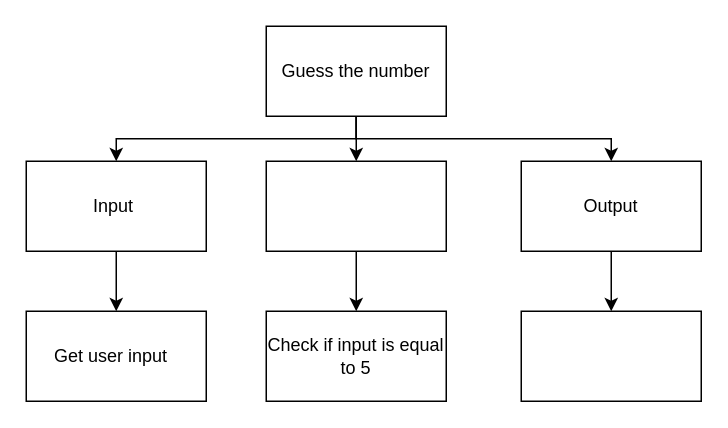
Some shapes in this 728 by 428 pixel diagram are drawn without their labels. The centre of each missing label's shape, as x and y in pixels:
"Process" goes at point 355,205.
"Show answer" goes at point 610,355.
